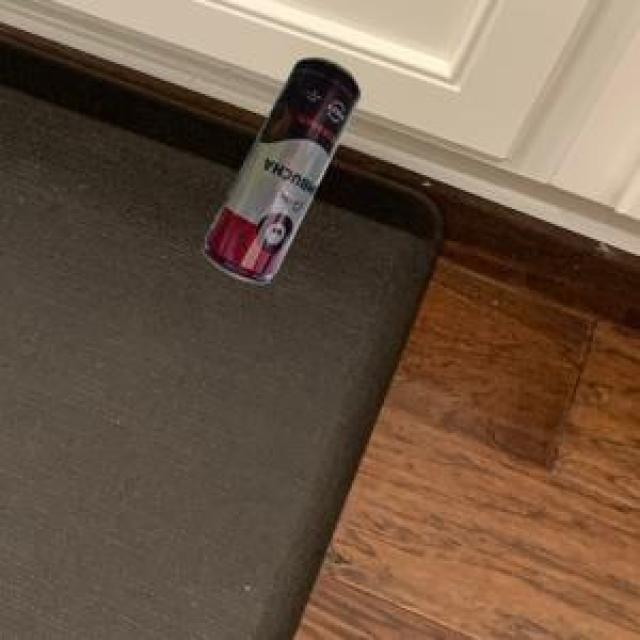logam: (199, 57, 357, 281)
